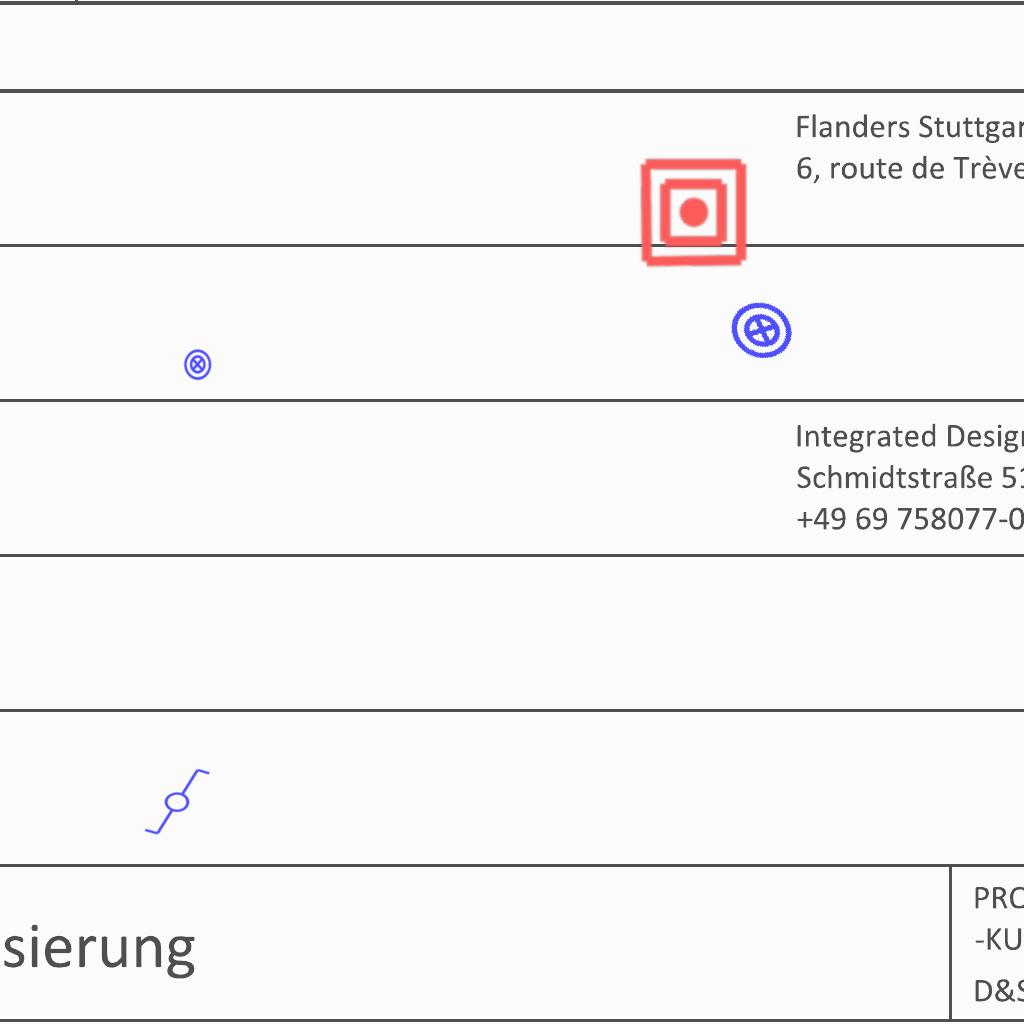NAM-Nichtautomatischer_Melder: (637, 156, 750, 269)
Taster_beleuchtet: (718, 286, 806, 374), (181, 348, 214, 381)
Wechselschalter: (134, 765, 212, 837)
